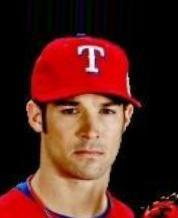face: (58, 101, 115, 159)
